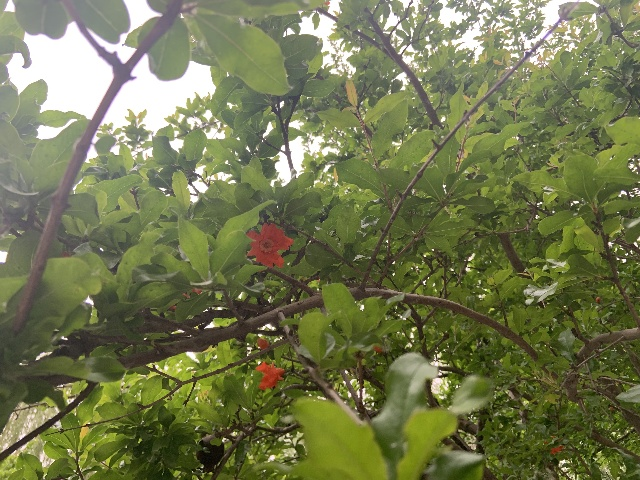bud: (256, 337, 269, 349), (596, 296, 600, 302)
flower: (245, 222, 294, 269), (255, 360, 284, 390), (544, 436, 563, 454)
